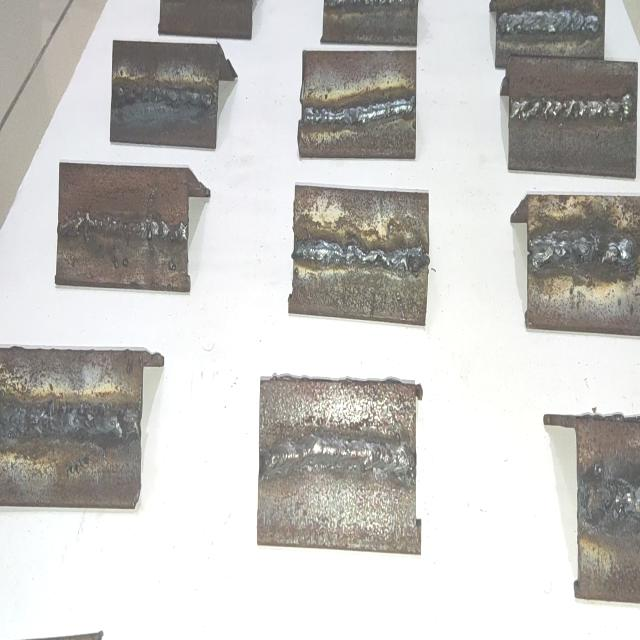Bad Weld: (293, 236, 428, 279), (59, 210, 189, 246), (530, 232, 636, 275), (116, 81, 214, 111), (580, 479, 640, 524)
Defect: (58, 213, 186, 245), (577, 466, 637, 534), (111, 70, 168, 117), (584, 220, 620, 280), (391, 229, 426, 283)
Good Weld: (261, 441, 414, 480), (0, 403, 137, 440), (512, 93, 633, 122), (306, 98, 414, 126), (496, 12, 598, 36)
